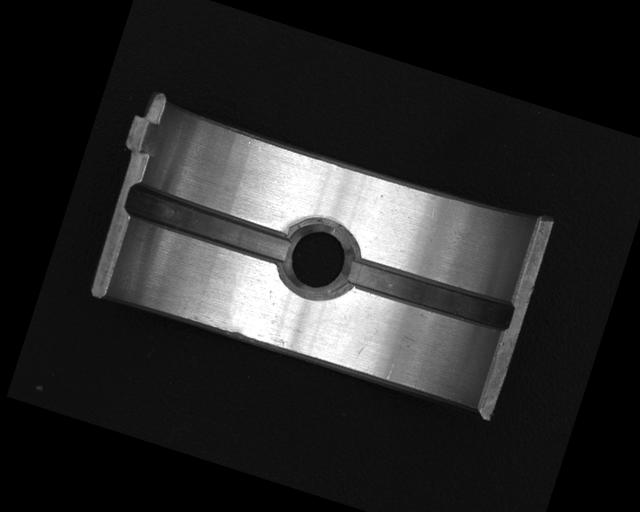gap: (337, 248, 518, 339), (121, 179, 296, 268)
hole: (272, 211, 365, 306)
nick: (384, 360, 397, 381)
